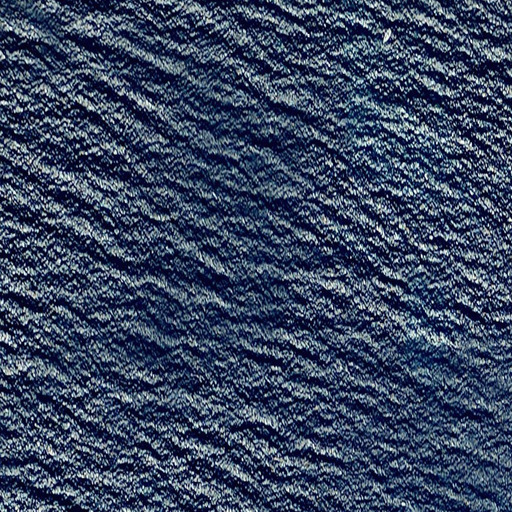ship: (381, 27, 392, 44)
